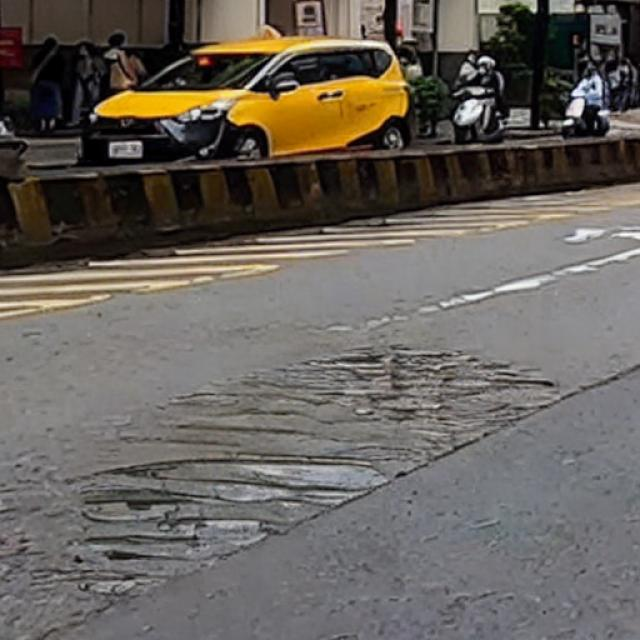puddle: (84, 348, 547, 592)
